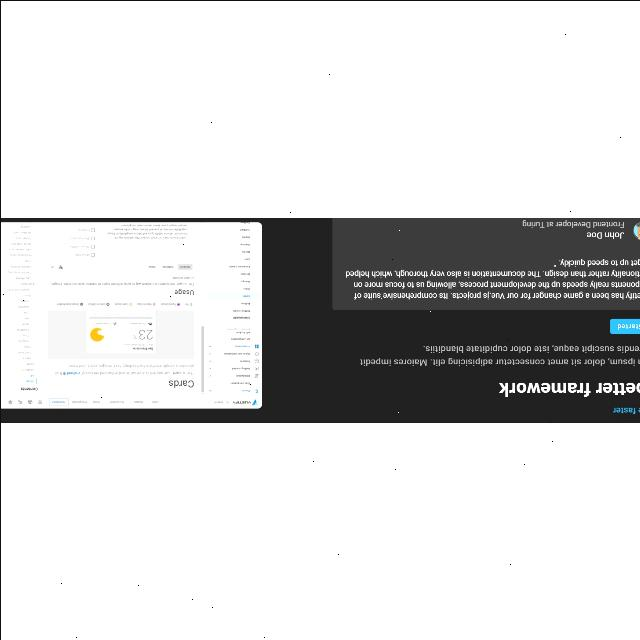QLabel: (342, 257, 640, 301), (358, 344, 640, 366), (496, 381, 640, 399), (521, 220, 625, 228), (586, 230, 624, 240), (610, 406, 640, 416), (616, 324, 640, 331)
VAvatar: (632, 222, 640, 240)
VBtn: (608, 319, 640, 335)
VCard: (330, 218, 640, 312)
VImg: (0, 222, 264, 410)
